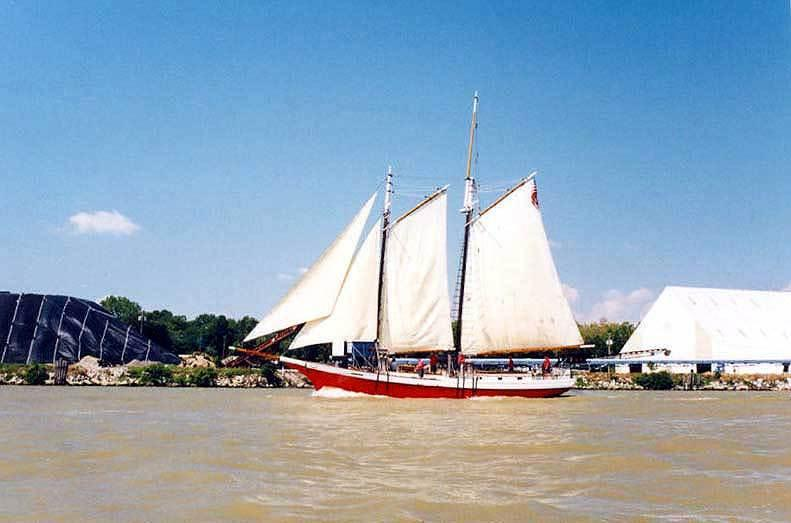Ship: (230, 93, 587, 403)
